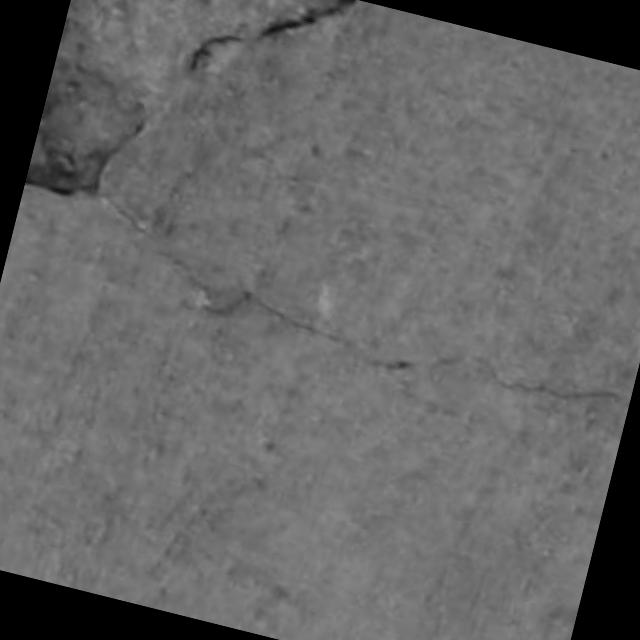crack: (484, 364, 625, 403), (257, 0, 355, 39), (186, 34, 244, 72)
